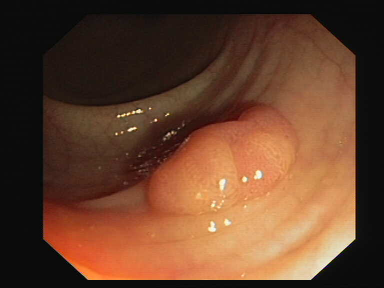polyp: (129, 98, 334, 211)
